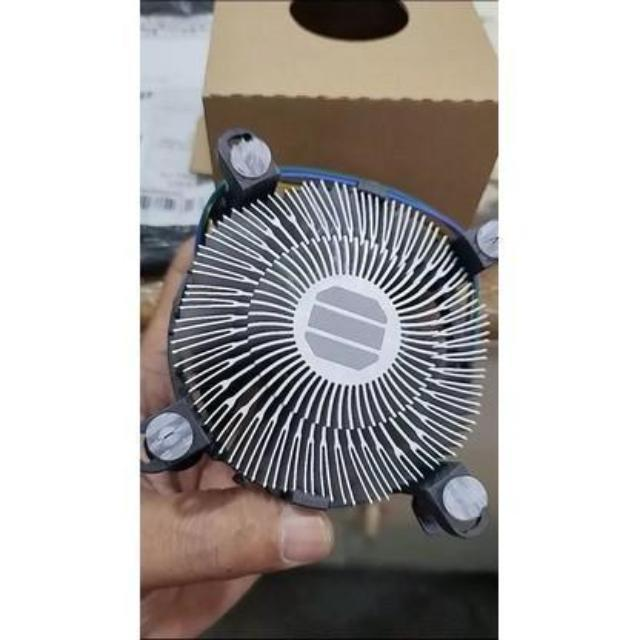CPU_Fan: (153, 134, 498, 544)
